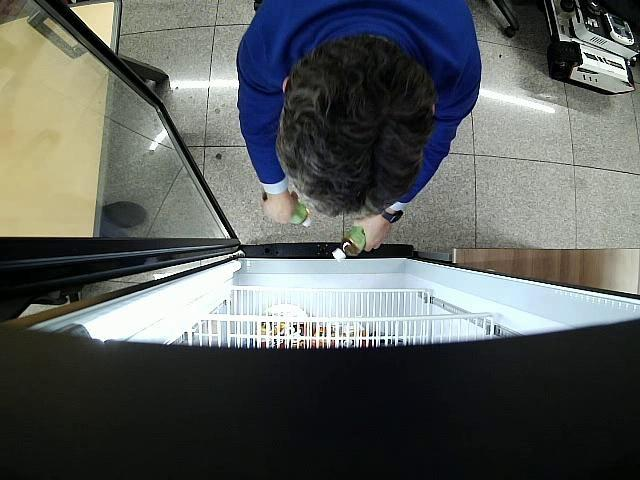19_17cha: (263, 192, 311, 229), (334, 226, 366, 266)
